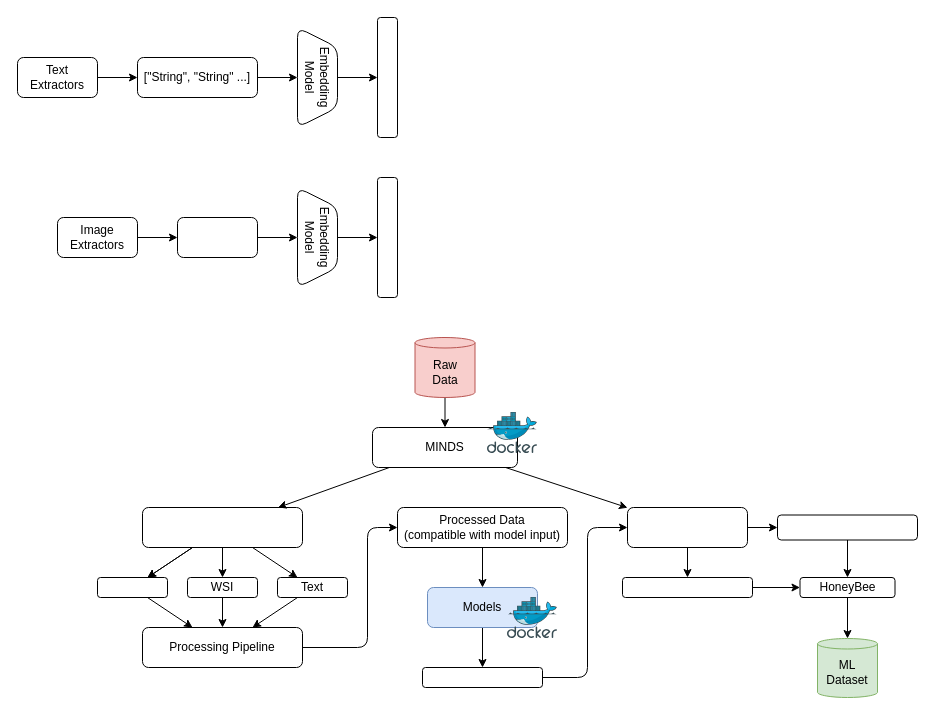
Image size: 935x715. Some labels were removed from this diagram. The shapes that lost their labels are listed below. From the top down, each one's centre as x and y in pixels, then its label:
At (x=217, y=237): "Image array".
At (x=222, y=527): "Extract Standardized Data Structure from Raw Data".
At (x=687, y=527): "Generate Modality Datasets".
At (x=847, y=527): "Hugging Face Dataset".
At (x=132, y=587): "Radiology".
At (x=687, y=587): "Vector Database".
At (x=482, y=677): "Embedding Vectors".
